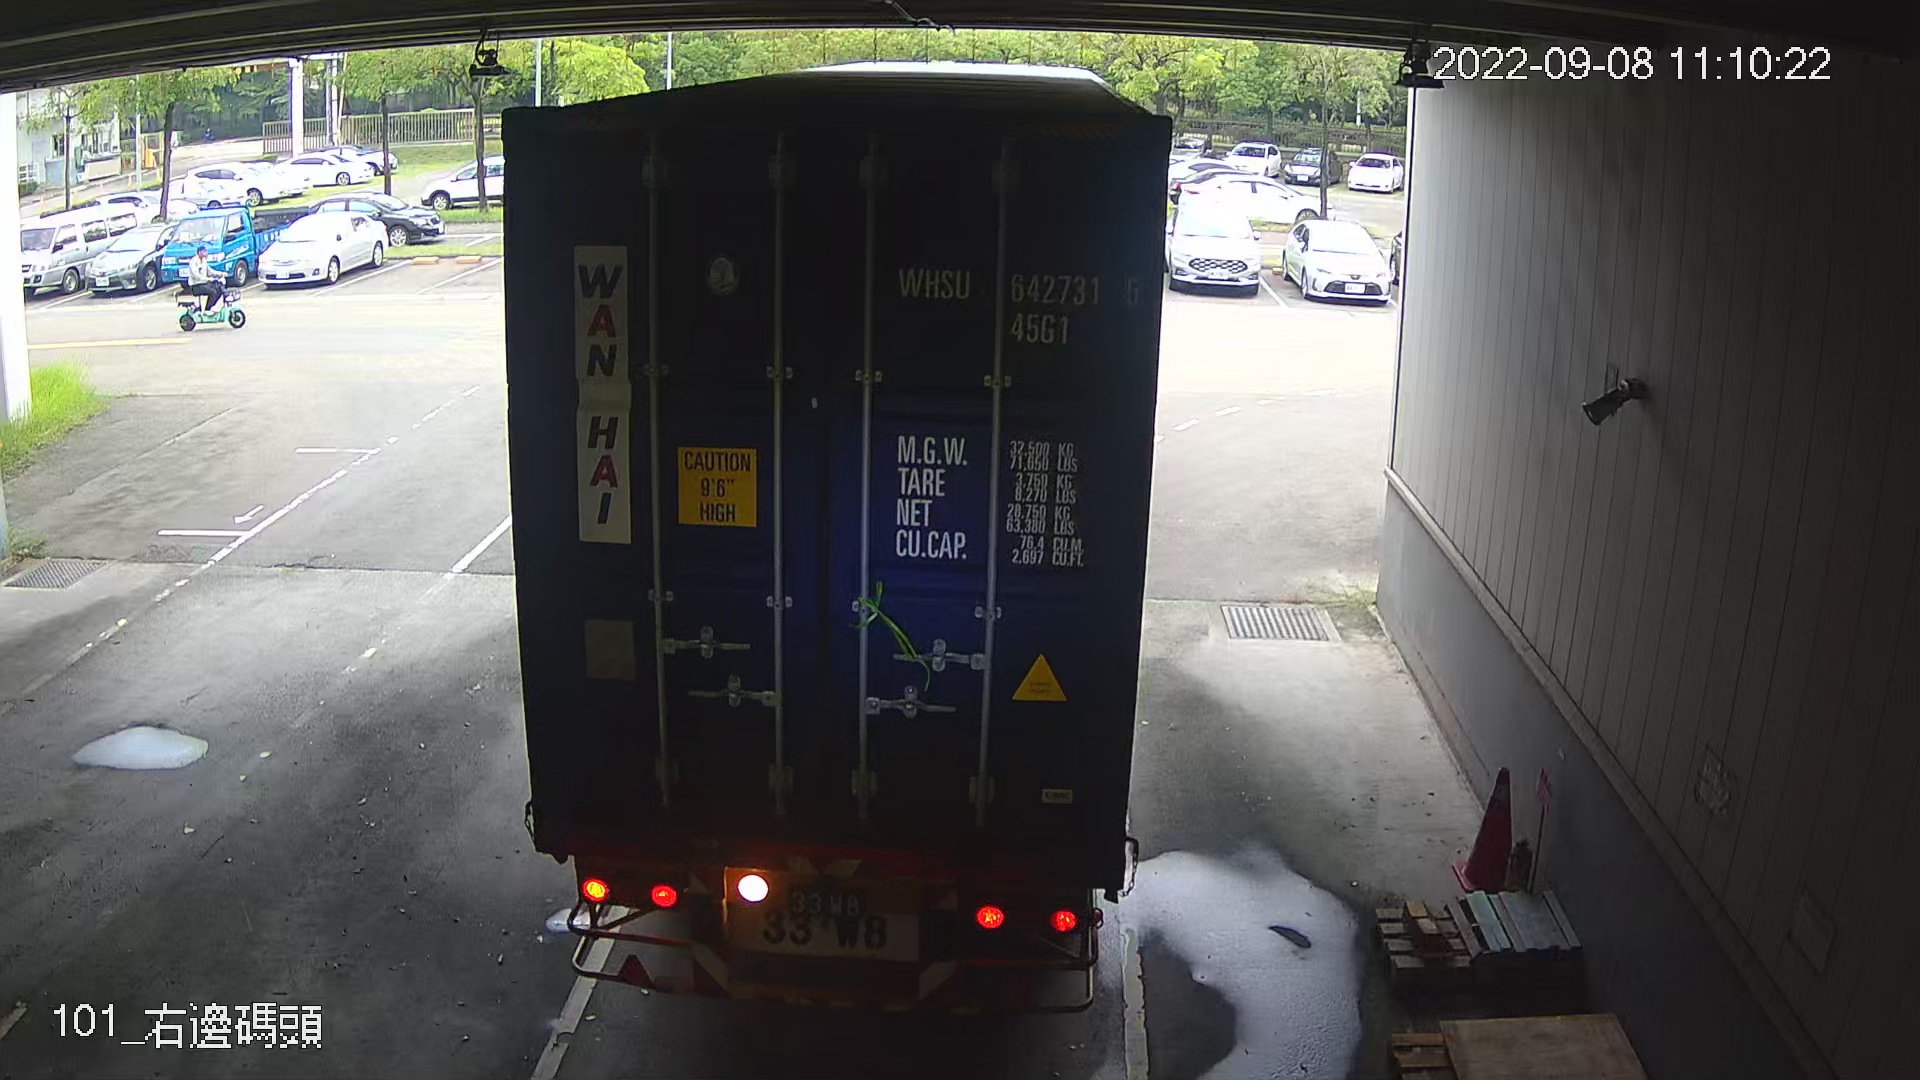container: (891, 249, 1145, 357)
